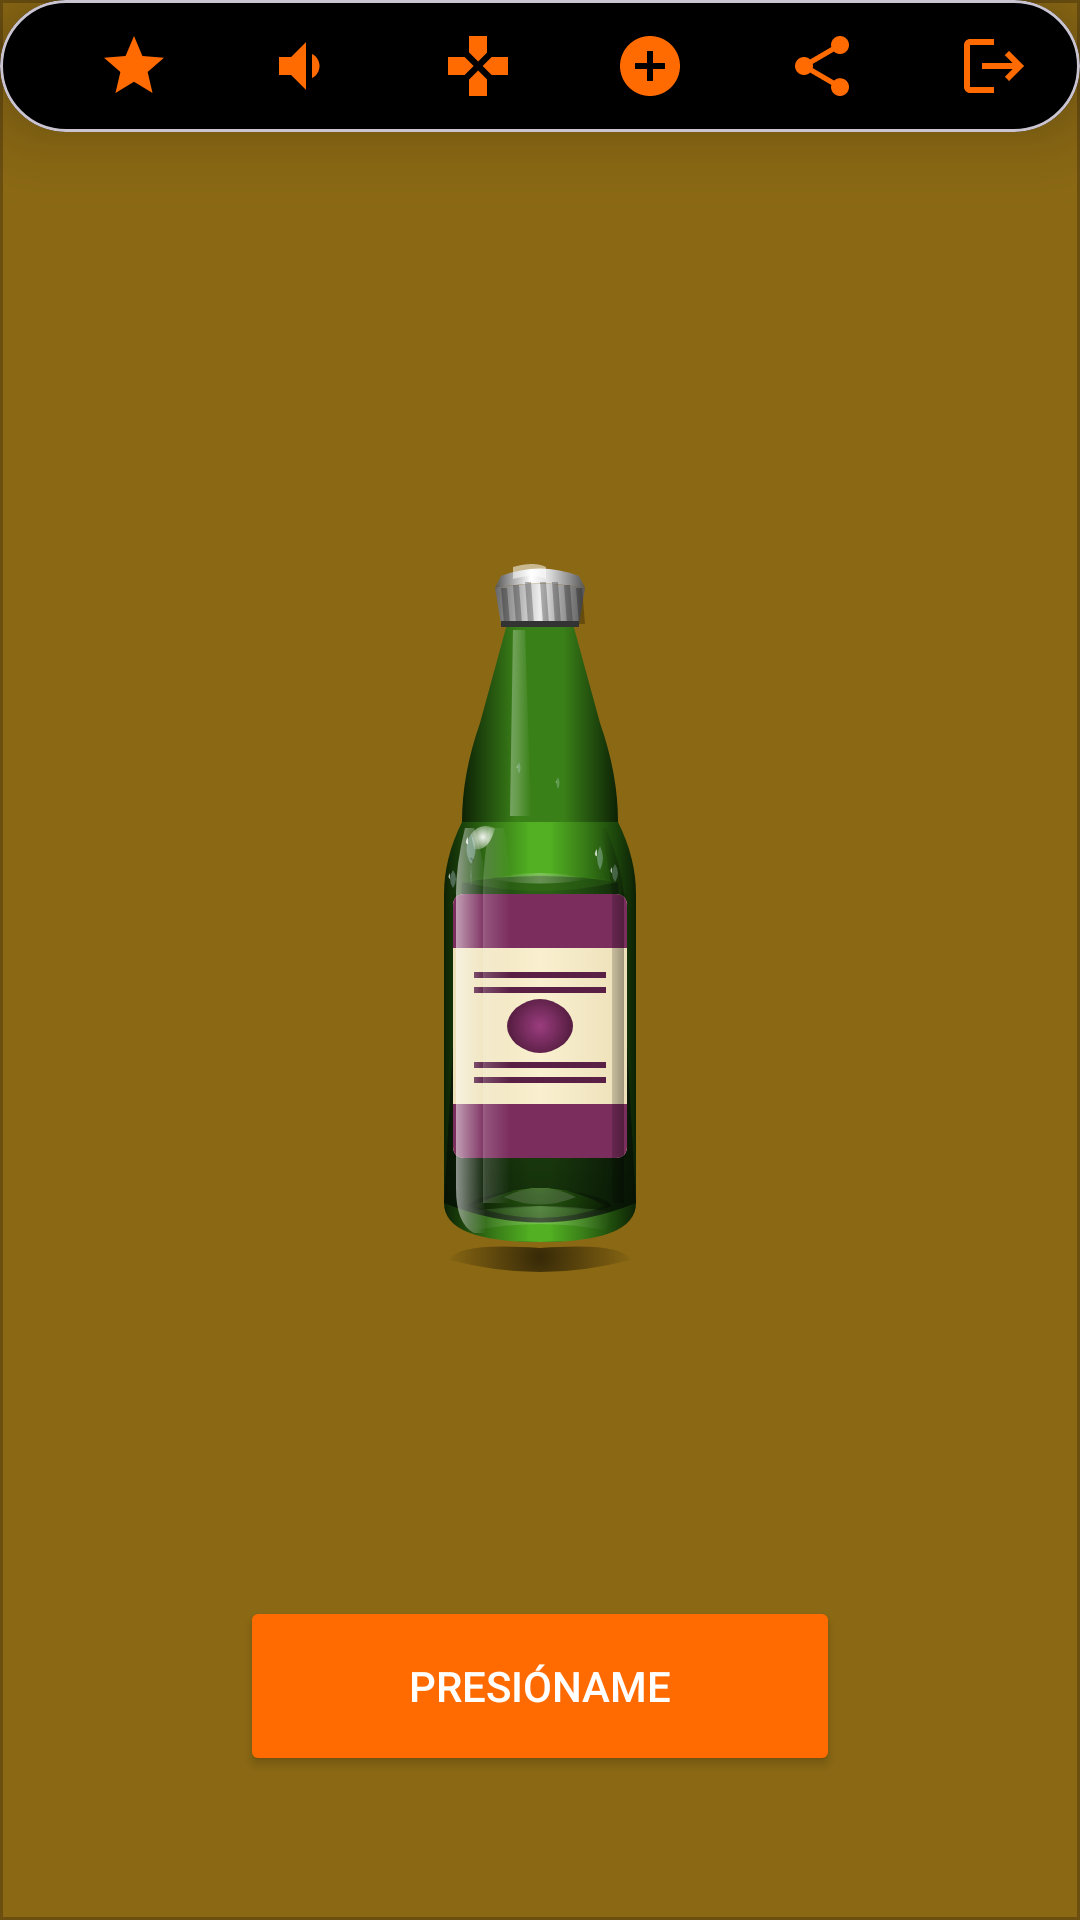

Named icons in this screenshot (1080×1920) and their centers, point (x, y):
Agregar retos: point (650, 66)
Audio: point (306, 66)
Calificar app: point (134, 66)
Compartir app: point (822, 66)
